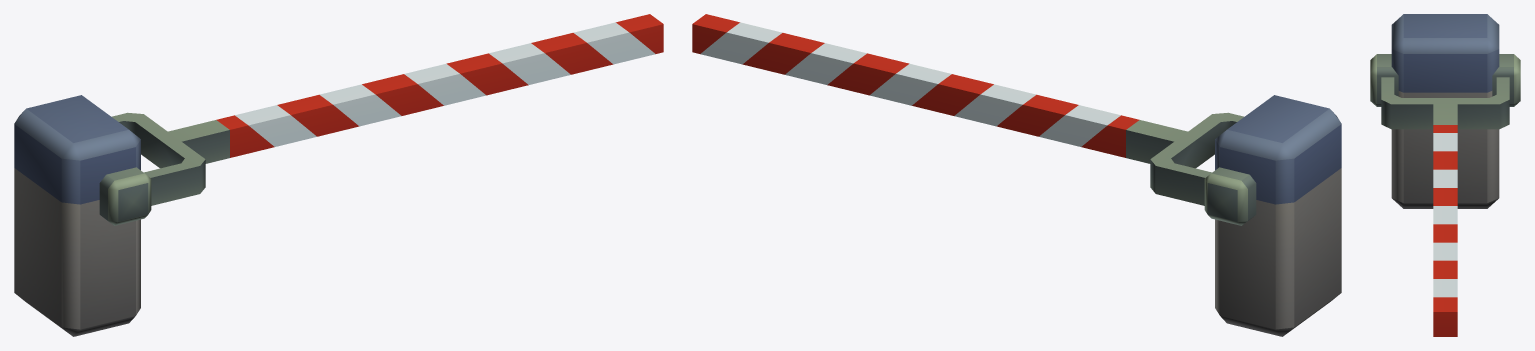
File: boom_gate.fbx
The picture shows the model from 3 angles, left to right: view 1: azimuth 30°, elevation 25°; view 2: azimuth 150°, elevation 25°; view 3: azimuth 270°, elevation 25°; orthographic projection. The views are drawn at different scales.
Visible parts, largest first — view 1: boom_gate_beam, boom_gate; view 2: boom_gate_beam, boom_gate; view 3: boom_gate, boom_gate_beam.
Boxes of the visible parts, bbox=[...] form: boom_gate_beam: bbox=[99, 14, 663, 225]; boom_gate: bbox=[14, 95, 140, 336]; boom_gate_beam: bbox=[692, 14, 1256, 225]; boom_gate: bbox=[1215, 95, 1341, 336]; boom_gate: bbox=[1391, 14, 1499, 208]; boom_gate_beam: bbox=[1370, 54, 1520, 336].
Bounding box in the file's own units: 585 × 175 × 139.
